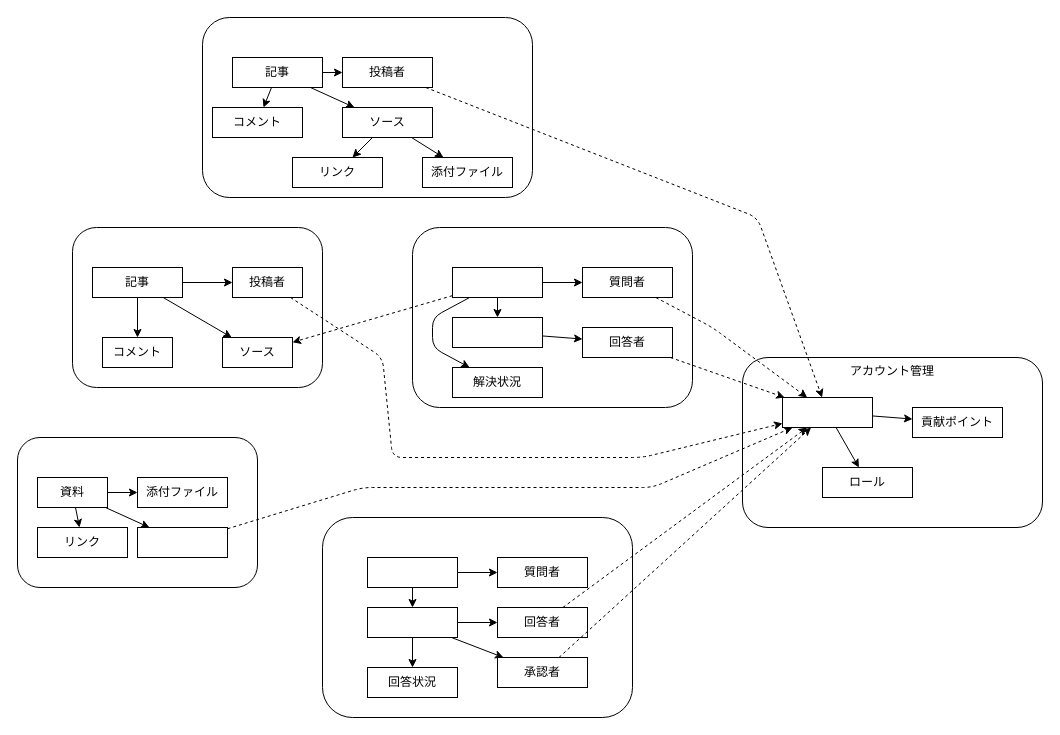
This 1060x735 diagram has some shape labels left out. The shapes that lost their labels are listed below. From the top down, each one's box as (x1, y1, x2, y2) in pixels, then its label:
(202, 16, 532, 198): 事例管理
(452, 266, 542, 298): 質問内容
(72, 226, 322, 388): ナレッジ管理
(412, 226, 692, 408): コミュニティ
(452, 316, 542, 348): 回答内容
(782, 396, 872, 428): アカウント
(16, 436, 258, 588): 開発資料管理
(136, 526, 228, 558): 作成者
(366, 556, 458, 588): 質問
(366, 606, 458, 638): 回答
(322, 516, 632, 718): PF QA
